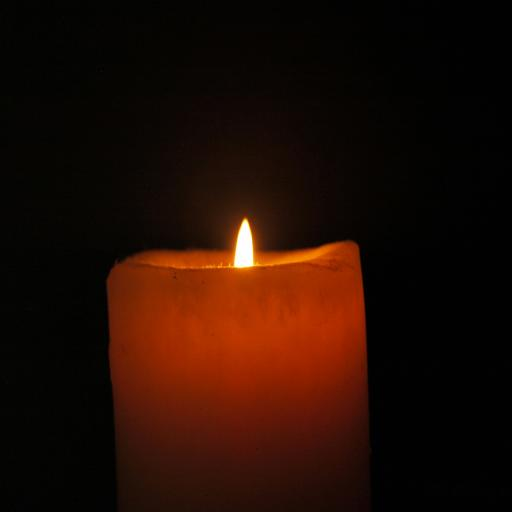candlelight: (94, 160, 389, 512)
